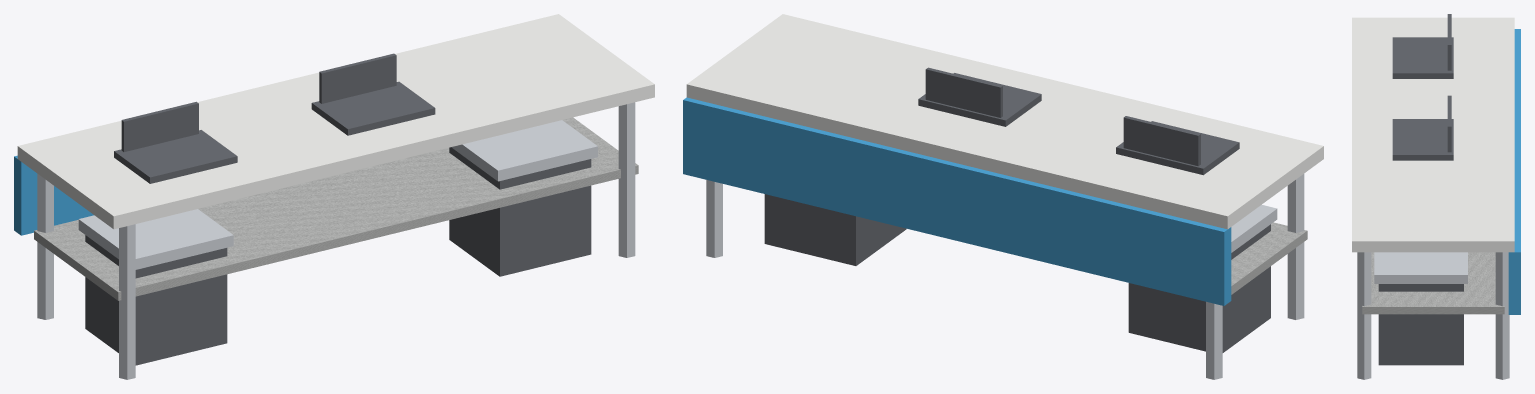
Rendered from velodrome-and-track-cycling-race-timing-desk-387d1eb7__38011.glb.
3 views of the same model, side by side, from view 1: azimuth 30°, elevation 25°; view 2: azimuth 150°, elevation 25°; view 3: azimuth 270°, elevation 25° (orthographic). The views are drawn at different scales.
Parts seen in each view (by area): view 1: race-timing-desk-chalk, race-timing-desk-charcoal, race-timing-desk-apron, race-timing-desk-steel, race-timing-desk-azure; view 2: race-timing-desk-chalk, race-timing-desk-azure, race-timing-desk-charcoal, race-timing-desk-steel, race-timing-desk-apron; view 3: race-timing-desk-chalk, race-timing-desk-charcoal, race-timing-desk-steel, race-timing-desk-apron, race-timing-desk-azure.
Part boxes in pixels (x1=…): race-timing-desk-chalk: x1=17, y1=14, x2=654, y2=229; race-timing-desk-charcoal: x1=85, y1=53, x2=591, y2=365; race-timing-desk-apron: x1=34, y1=117, x2=638, y2=300; race-timing-desk-steel: x1=37, y1=102, x2=635, y2=379; race-timing-desk-azure: x1=14, y1=155, x2=93, y2=235; race-timing-desk-chalk: x1=686, y1=14, x2=1323, y2=229; race-timing-desk-azure: x1=683, y1=97, x2=1231, y2=305; race-timing-desk-charcoal: x1=764, y1=67, x2=1270, y2=352; race-timing-desk-steel: x1=706, y1=174, x2=1304, y2=379; race-timing-desk-apron: x1=1231, y1=222, x2=1307, y2=294; race-timing-desk-chalk: x1=1352, y1=17, x2=1514, y2=252; race-timing-desk-charcoal: x1=1378, y1=14, x2=1463, y2=365; race-timing-desk-steel: x1=1357, y1=252, x2=1509, y2=379; race-timing-desk-apron: x1=1362, y1=252, x2=1504, y2=314; race-timing-desk-azure: x1=1508, y1=29, x2=1520, y2=314.
Bounding box in the file's own units: 2.6 × 0.95 × 0.8299.
Materials: 5 (1 with a texture image).
